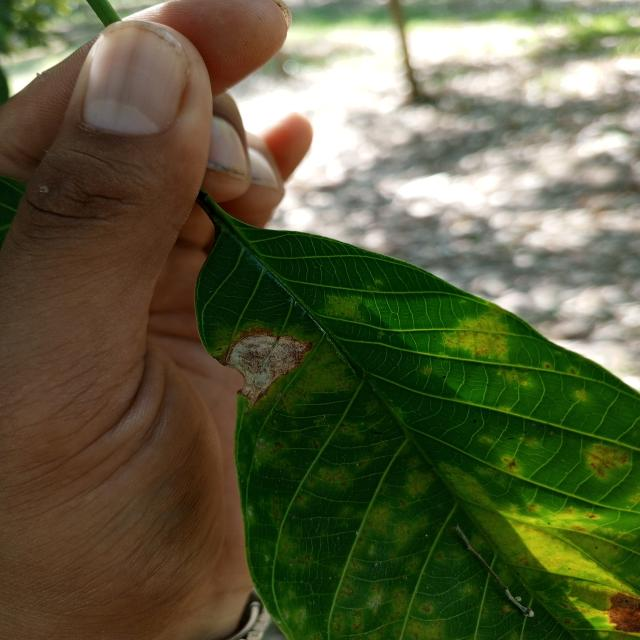Leaf-Blight: (224, 330, 312, 406)
